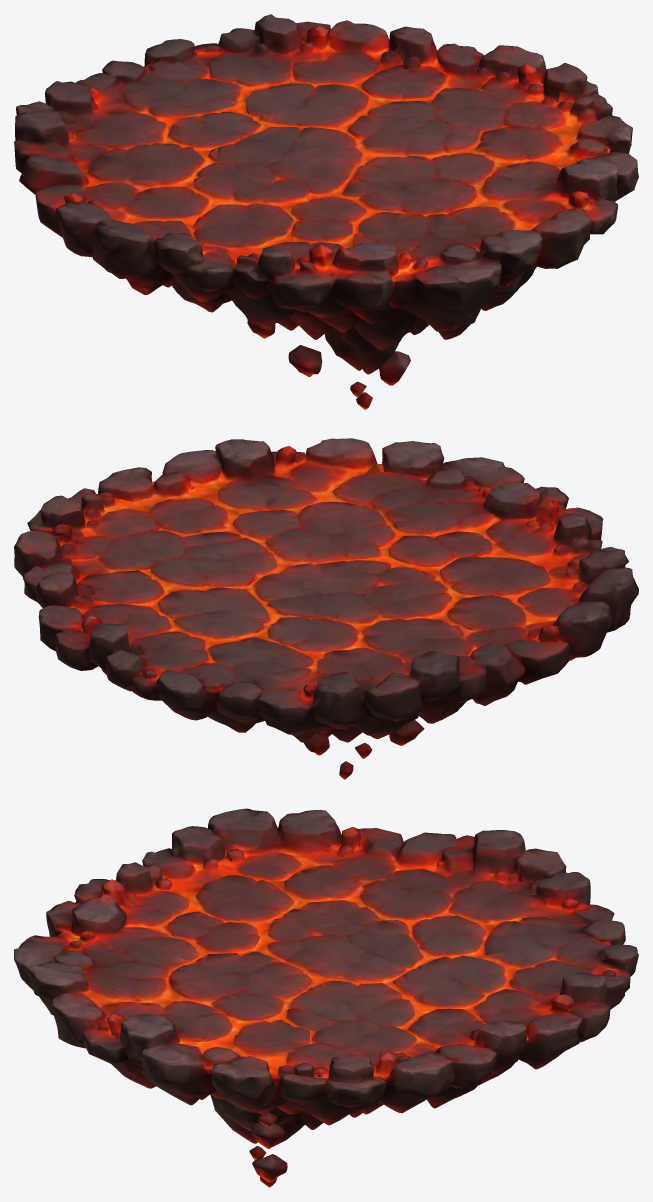
The model's file is R3_Island_Meadow.fbx.
3 views of the same model, one above another, from view 1: azimuth 30°, elevation 25°; view 2: azimuth 150°, elevation 25°; view 3: azimuth 270°, elevation 25° (orthographic). The views are drawn at different scales.
Parts seen in each view (by area): view 1: R3_Island_Meadow; view 2: R3_Island_Meadow; view 3: R3_Island_Meadow.
Boxes of the visible parts, bbox=[...] form: R3_Island_Meadow: bbox=[14, 14, 638, 409]; R3_Island_Meadow: bbox=[14, 438, 638, 779]; R3_Island_Meadow: bbox=[14, 808, 638, 1187].
Bounding box in the file's own units: 900 × 400 × 900.
1 material, 1 textured.
